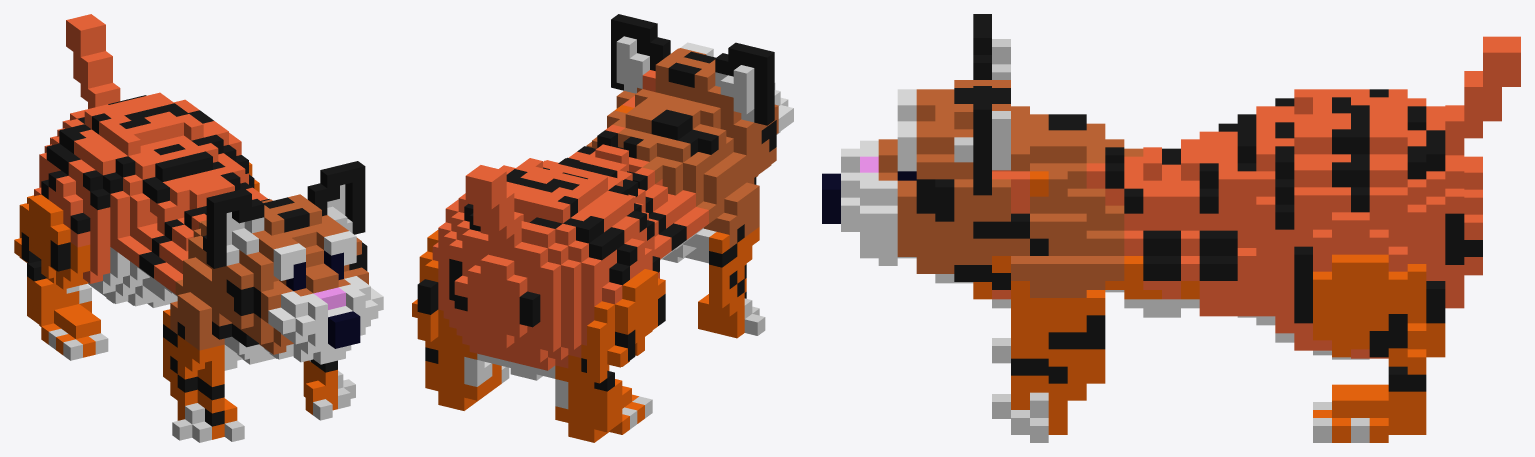
File: Tiger.obj
3 renders of one model, left to right at view 1: azimuth 30°, elevation 25°; view 2: azimuth 150°, elevation 25°; view 3: azimuth 270°, elevation 25°, orthographic. The views are drawn at different scales.
Bounding box in the file's own units: 1.6 × 2 × 3.7.
Materials: 1 (1 with a texture image).
